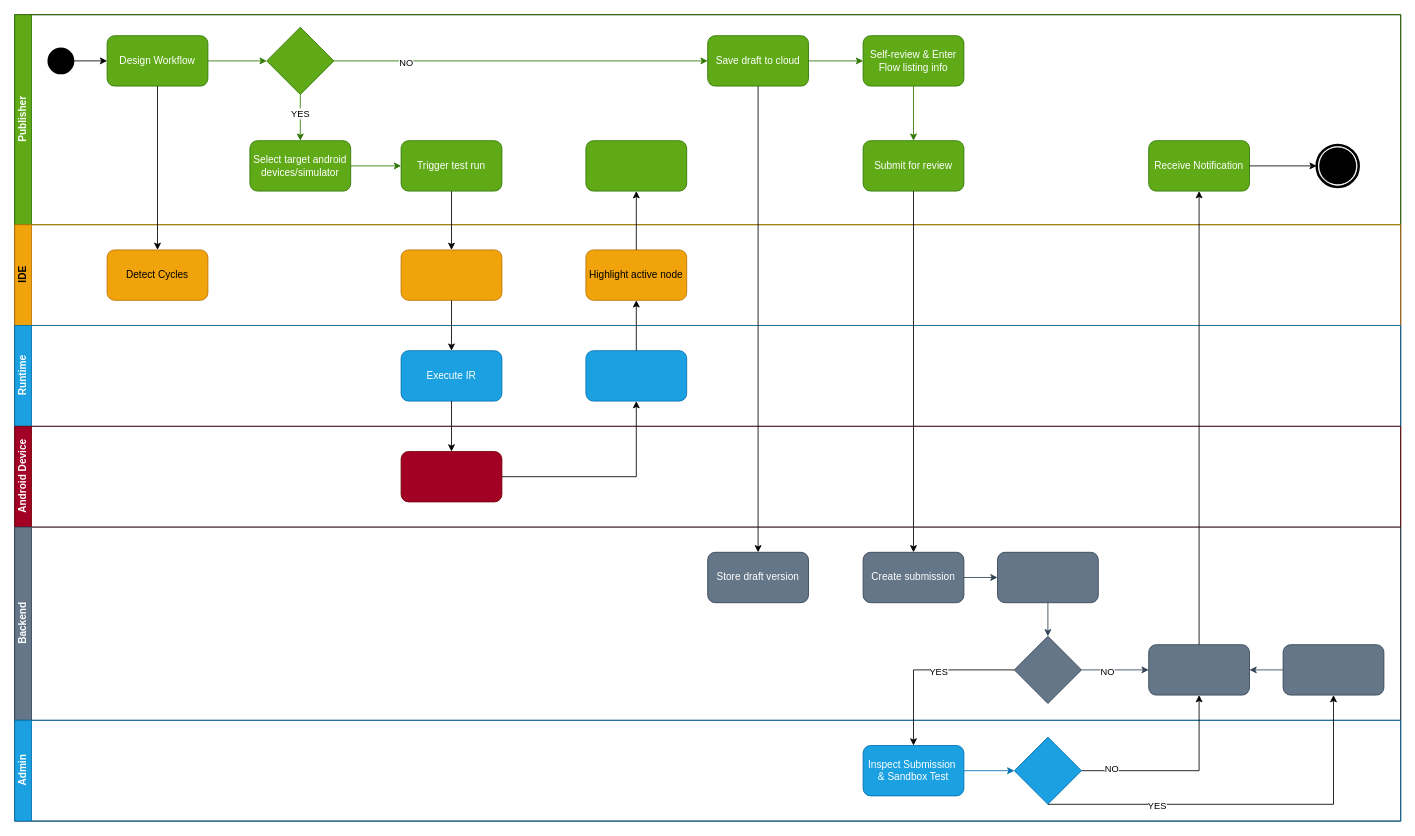
This 1415x836 diagram has some shape labels left out. The shapes that lost their labels are listed below. From the top down, each one's centre as x and y in pixels, then its label:
At (300,60): "Run Test?".
At (636,165): "Inspect realtime logs".
At (451,274): "Compile runtime IR".
At (636,375): "Stream Logs".
At (451,476): "Execute adb command".
At (1047,577): "Automated Scan".
At (1047,669): "scan passed?".
At (1199,669): "Reject & Send Feedback/Reasons".
At (1333,669): "Compile IR, Encrypt, Build .a2m & Publish".
At (1047,770): "approved?".
